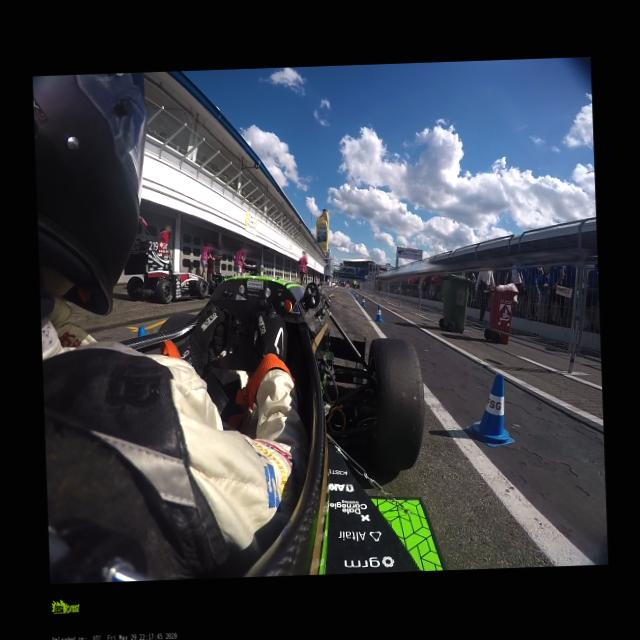blue_cone: (472, 374, 512, 444), (373, 304, 382, 322), (138, 326, 146, 336), (360, 295, 365, 306), (355, 292, 358, 298), (326, 288, 328, 292)
